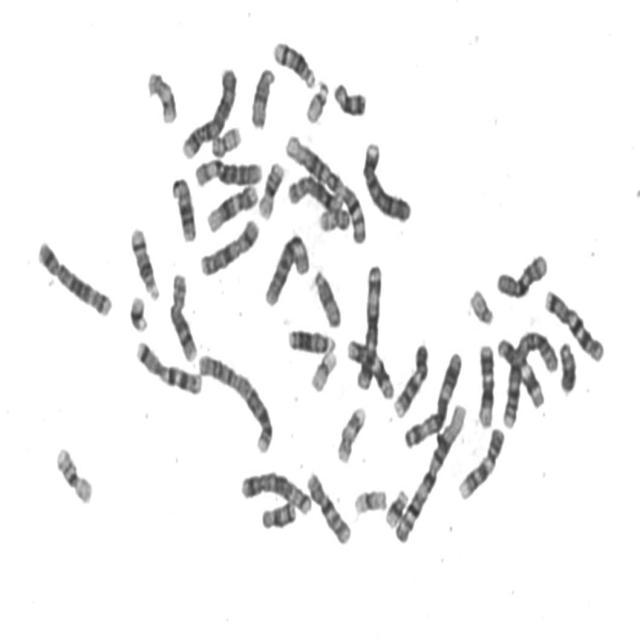A1: (390, 396, 469, 546), (281, 127, 369, 245)
A2: (193, 345, 274, 456), (497, 325, 560, 430)
A3: (400, 345, 464, 451), (354, 258, 384, 392)
B4: (178, 60, 239, 162), (359, 135, 413, 225)
B5: (32, 233, 114, 319), (236, 464, 314, 518)
C10: (302, 464, 352, 546), (492, 247, 550, 300)
C11: (493, 332, 546, 410), (343, 332, 396, 401)
C12: (202, 178, 260, 234), (473, 338, 496, 429)
C6: (260, 226, 311, 308), (190, 152, 263, 189)
C7: (541, 282, 607, 363), (132, 334, 204, 396)
C8: (165, 266, 199, 364), (284, 169, 345, 216)
C9: (454, 421, 506, 502), (390, 337, 430, 419)
D13: (167, 170, 198, 243), (284, 322, 337, 356)
D14: (126, 220, 161, 302), (269, 34, 317, 90)
D15: (310, 262, 342, 330), (247, 61, 276, 130)
E16: (52, 439, 94, 506), (254, 156, 286, 221)
E17: (333, 400, 367, 466), (144, 64, 178, 126)
E18: (329, 75, 368, 118), (257, 494, 298, 532)
F19: (306, 344, 338, 394), (350, 482, 388, 516)
F20: (208, 120, 243, 159), (315, 201, 352, 233)
G21: (382, 482, 410, 530), (125, 289, 150, 334)
G22: (302, 74, 330, 124), (466, 282, 496, 327)
X: (195, 212, 261, 278)
Y: (556, 334, 578, 396)
